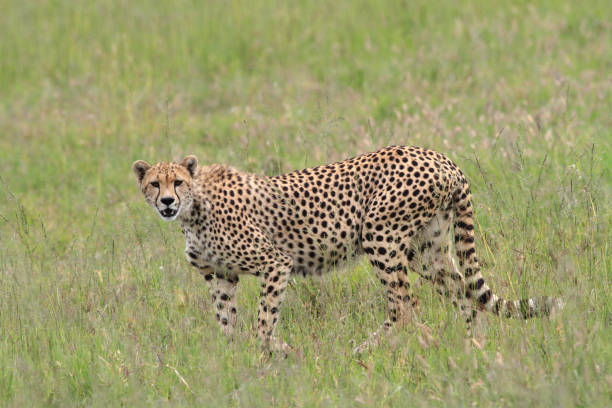cheetah: (122, 156, 202, 224)
